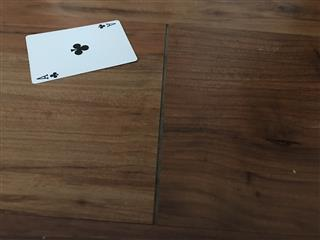AceOfClubs: (25, 19, 137, 83)
